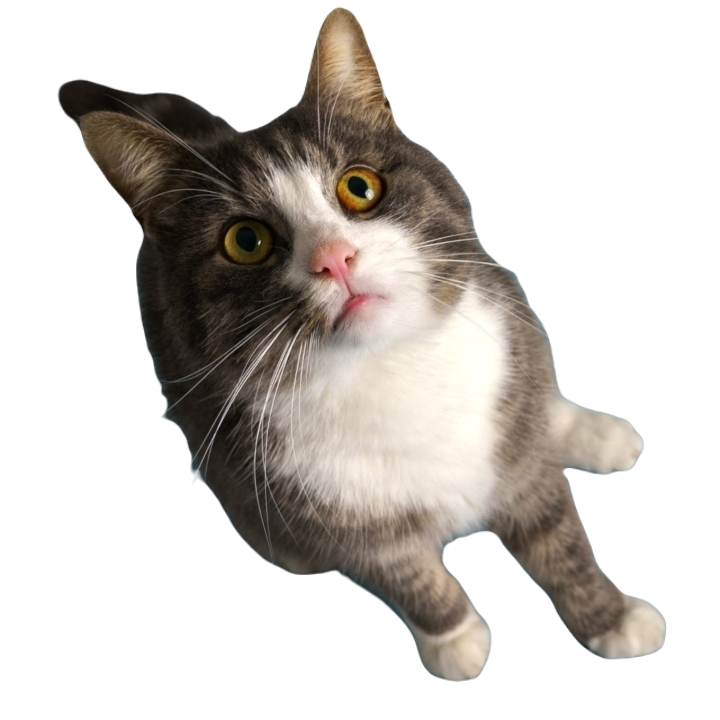Cat: (43, 13, 670, 686)
